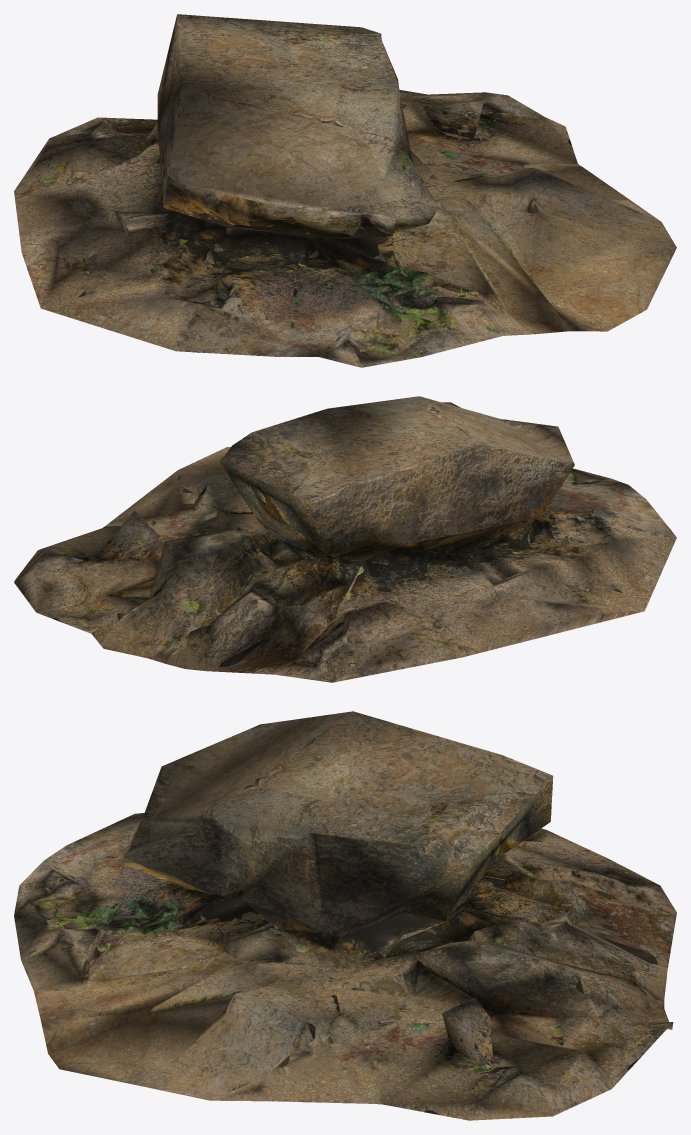
Rendered from coast_rocks_05_low.gltf.
The picture shows the model from 3 angles, top to bottom: view 1: azimuth 30°, elevation 25°; view 2: azimuth 150°, elevation 25°; view 3: azimuth 270°, elevation 25°; orthographic projection. The views are drawn at different scales.
Parts seen in each view (by area): view 1: coast_rocks_05; view 2: coast_rocks_05; view 3: coast_rocks_05.
Boxes of the visible parts, x1,y1,x2,y2 form: coast_rocks_05: [14, 14, 676, 367]; coast_rocks_05: [14, 396, 676, 682]; coast_rocks_05: [14, 711, 676, 1120].
Size of the model in its own units: 4.03 by 1.27 by 3.75.
Materials: 1 (1 with a texture image).
